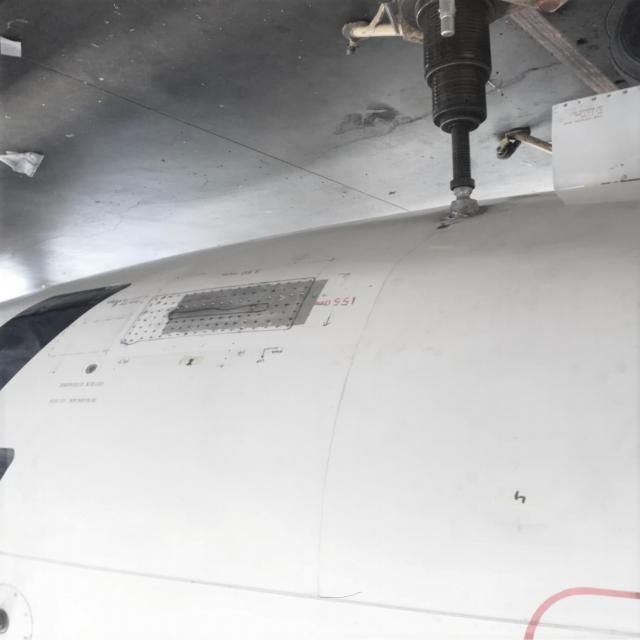crack: (324, 587, 381, 608)
